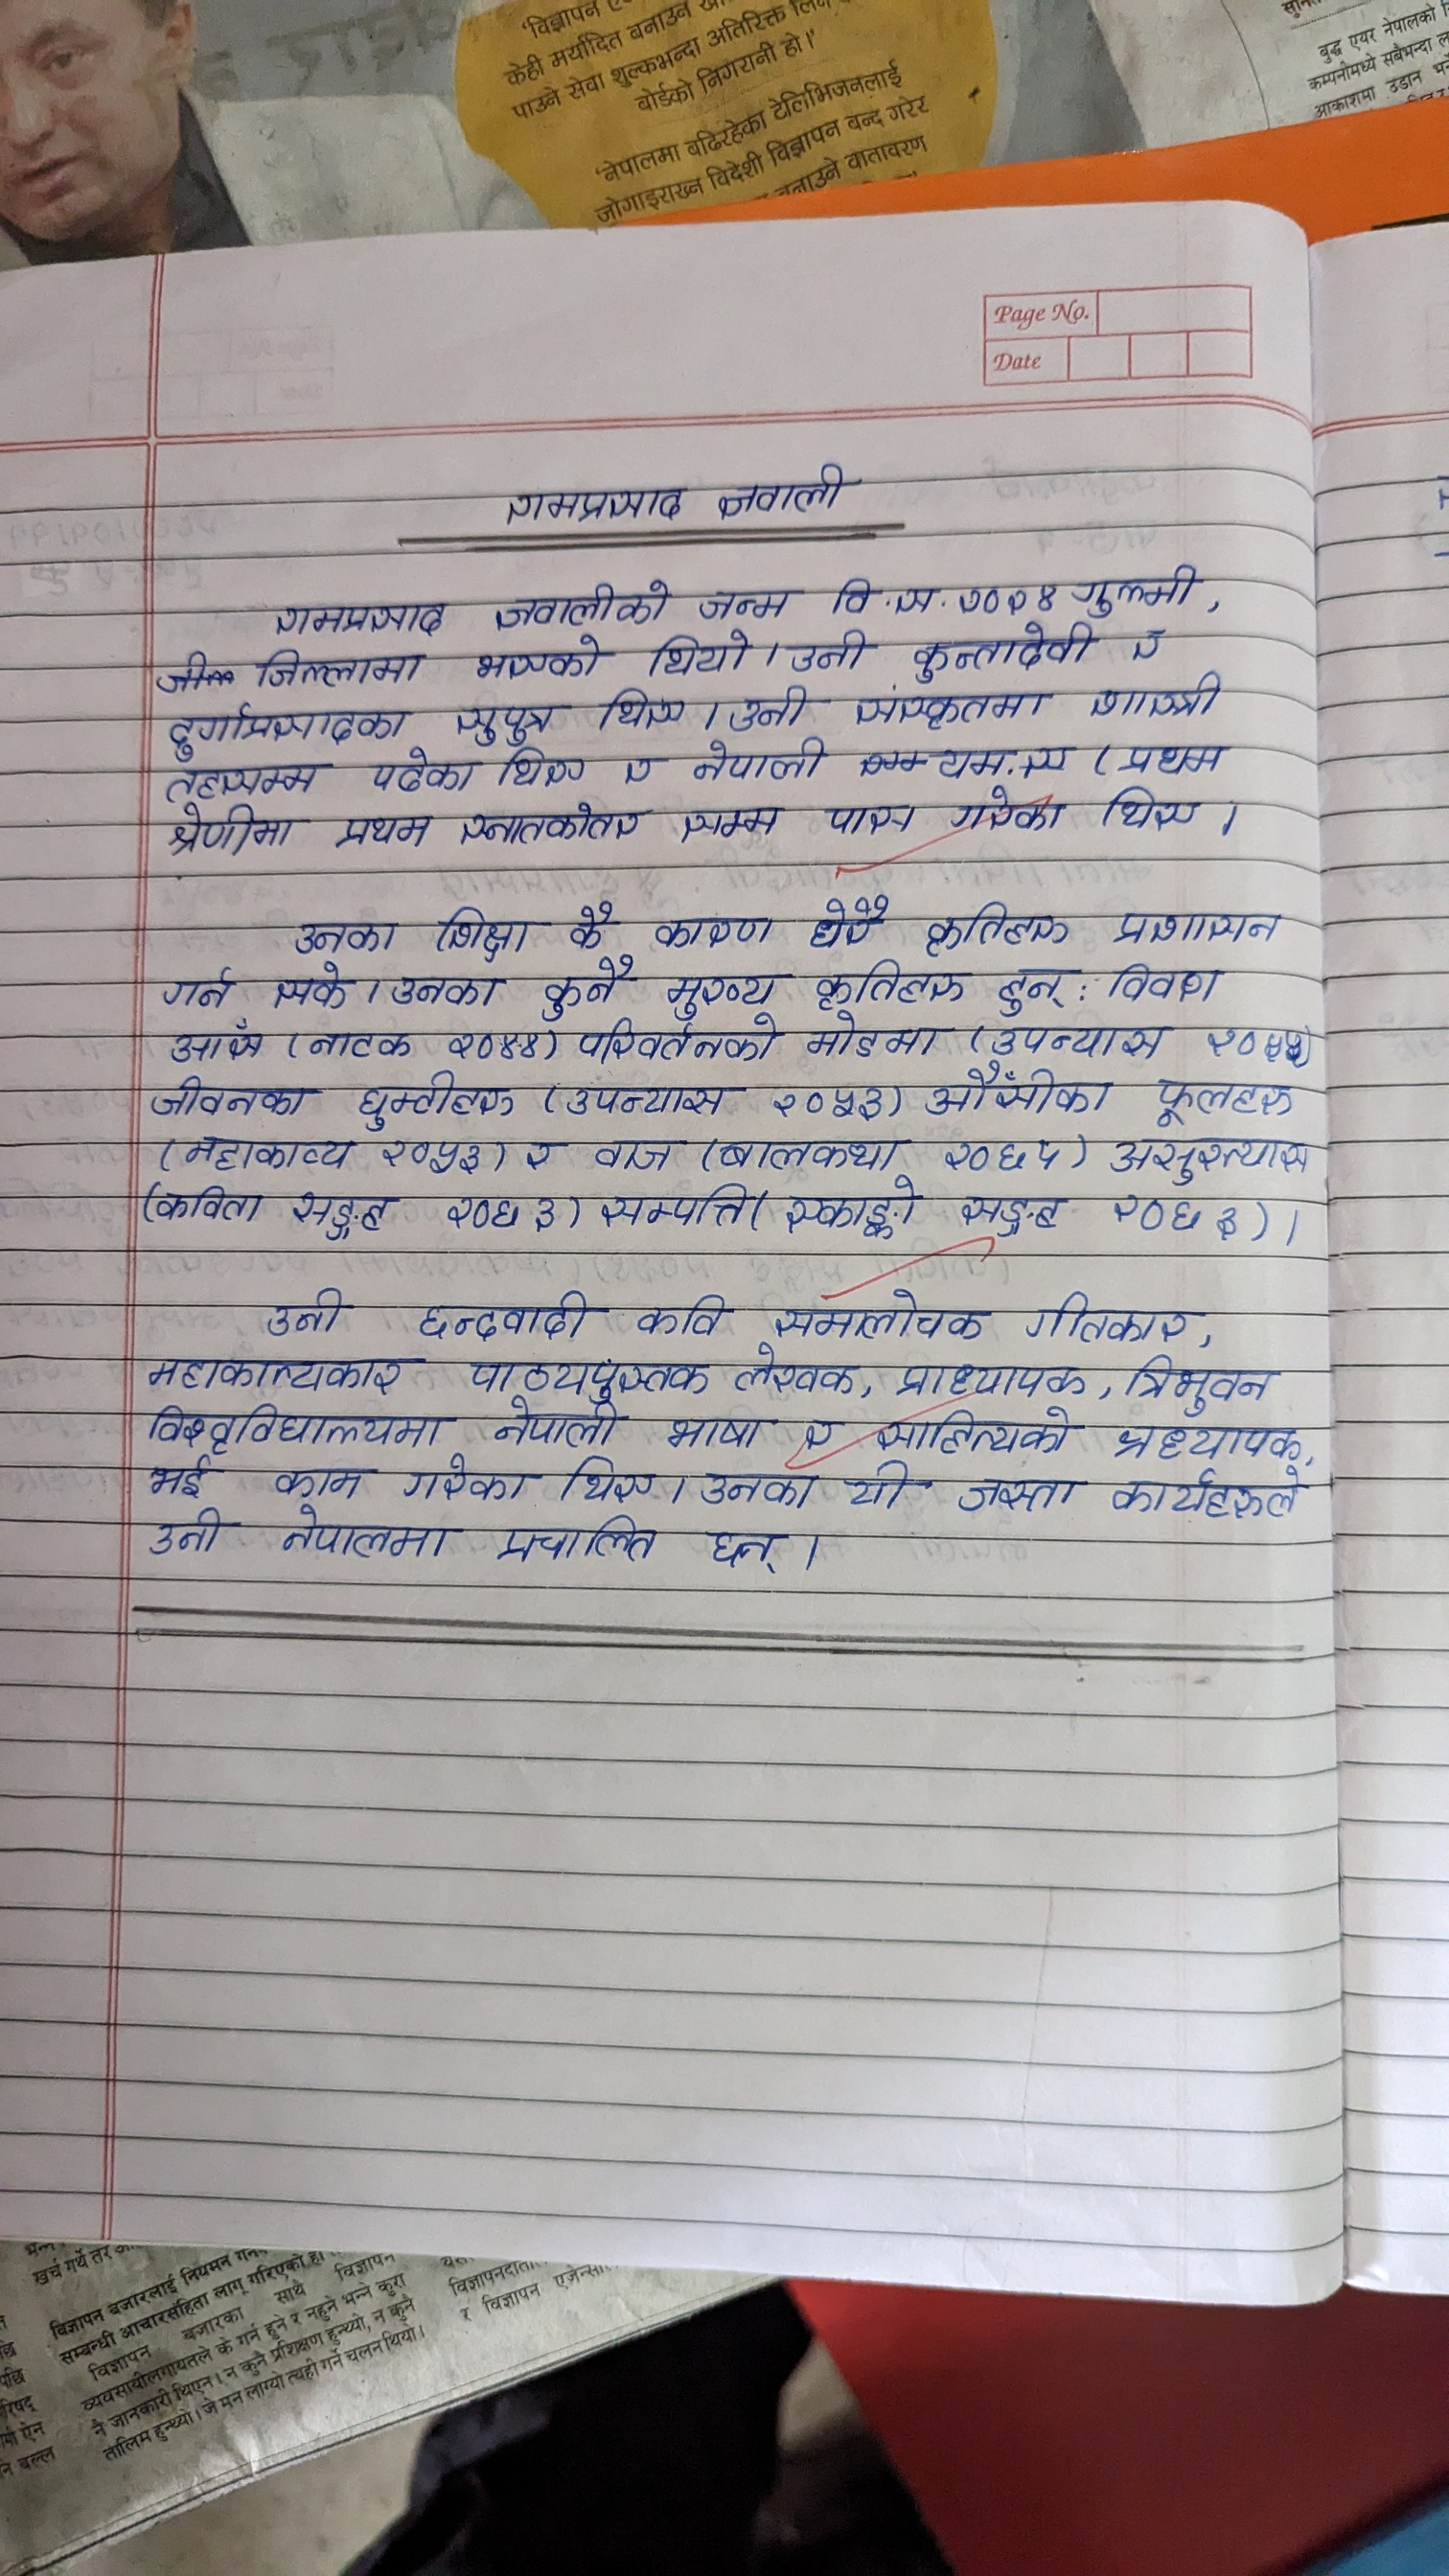text: (138, 1403, 451, 1451), (163, 699, 403, 750), (1109, 1468, 1306, 1530), (274, 1509, 458, 1573), (899, 623, 1099, 681), (143, 1353, 409, 1396), (766, 1290, 989, 1339), (1108, 1131, 1313, 1182), (488, 1514, 667, 1573), (460, 1355, 711, 1396), (869, 1407, 1074, 1456), (1106, 1417, 1318, 1465), (924, 1063, 1113, 1115), (568, 1017, 778, 1063), (1021, 1286, 1191, 1343), (709, 458, 849, 525), (846, 685, 1056, 729), (412, 1292, 593, 1343), (350, 1072, 522, 1125), (485, 579, 671, 626), (265, 587, 448, 635), (778, 1178, 916, 1238), (1125, 1353, 1274, 1408), (495, 485, 695, 525), (458, 803, 642, 846), (918, 901, 1067, 952), (593, 1182, 747, 1231), (1100, 902, 1279, 945), (145, 1076, 315, 1120), (810, 959, 964, 1007), (1139, 1076, 1293, 1123), (398, 1454, 536, 1506), (886, 1362, 1086, 1398), (182, 1132, 354, 1171), (1108, 1191, 1242, 1240), (423, 899, 533, 959), (688, 740, 832, 786), (488, 1399, 626, 1447), (1070, 566, 1203, 616), (163, 805, 295, 855), (564, 1077, 725, 1118), (715, 1134, 897, 1169), (945, 1189, 1069, 1240), (246, 648, 423, 683), (288, 1185, 395, 1244), (947, 789, 1067, 840), (798, 1014, 941, 1056), (989, 1023, 1164, 1056), (476, 637, 603, 683), (149, 1182, 265, 1231), (1088, 685, 1230, 725), (732, 1348, 856, 1394), (251, 1284, 357, 1338), (695, 1467, 819, 1511), (952, 1474, 1076, 1518), (1106, 961, 1224, 1007), (166, 764, 318, 800), (801, 886, 888, 948), (628, 1286, 732, 1338), (557, 1453, 658, 1506), (543, 959, 637, 1014), (444, 1191, 564, 1233), (642, 915, 784, 950), (648, 630, 752, 678), (1118, 734, 1233, 777), (1200, 1019, 1309, 1063), (662, 970, 775, 1012), (1100, 786, 1203, 832), (288, 913, 398, 955), (165, 1017, 265, 1063), (674, 801, 782, 844), (497, 745, 596, 791), (766, 1083, 888, 1120), (331, 812, 437, 855), (366, 754, 481, 793), (985, 961, 1076, 1010), (379, 1138, 488, 1178), (449, 701, 554, 743), (389, 970, 508, 1007), (943, 1134, 1062, 1171), (658, 1410, 766, 1451), (948, 575, 1060, 612), (149, 1506, 226, 1559), (708, 1522, 780, 1578), (821, 800, 920, 839), (271, 962, 354, 1008), (308, 1026, 414, 1062), (435, 1028, 547, 1062), (593, 1134, 685, 1175), (787, 630, 870, 674), (729, 686, 812, 731), (594, 690, 685, 731), (269, 1463, 372, 1499), (842, 1460, 911, 1509), (143, 1456, 214, 1502), (695, 584, 784, 619), (156, 968, 237, 1003), (936, 745, 1007, 784), (824, 575, 878, 616), (568, 904, 614, 950), (796, 1414, 847, 1454), (1129, 628, 1173, 667), (892, 580, 938, 616), (513, 1141, 559, 1171), (619, 754, 662, 786)
